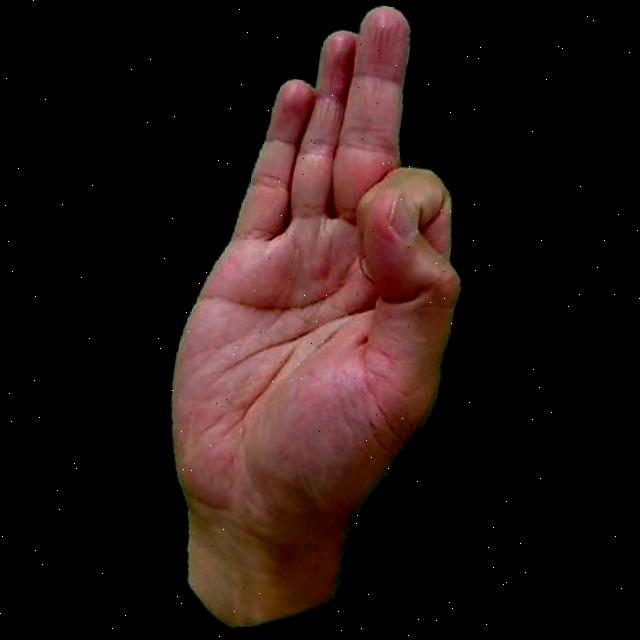f: (133, 0, 502, 640)
